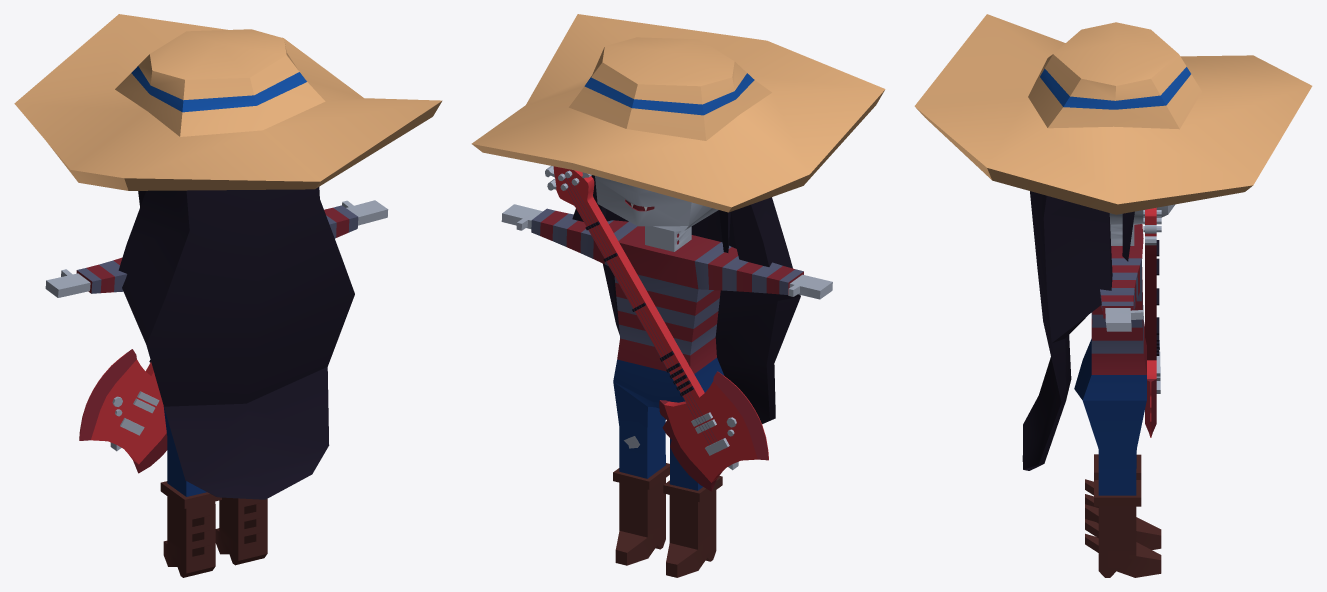
Rendered from Marceline.gltf.
3 renders of one model, left to right at view 1: azimuth 30°, elevation 25°; view 2: azimuth 150°, elevation 25°; view 3: azimuth 270°, elevation 25°, orthographic. The views are drawn at different scales.
Parts seen in each view (by area): view 1: Marceline, Hat, Guitar; view 2: Hat, Marceline, Guitar; view 3: Hat, Marceline, Guitar.
Part boxes in pixels (bbox=[...]): Marceline: bbox=[45, 187, 388, 577]; Hat: bbox=[14, 14, 442, 190]; Guitar: bbox=[79, 349, 167, 473]; Hat: bbox=[471, 14, 885, 212]; Marceline: bbox=[501, 175, 832, 577]; Guitar: bbox=[545, 166, 768, 491]; Hat: bbox=[914, 14, 1312, 214]; Marceline: bbox=[1022, 191, 1175, 577]; Guitar: bbox=[1143, 207, 1161, 437].
Bounding box in the file's own units: 2.23 × 3.36 × 2.36.
1 material, 1 textured.
